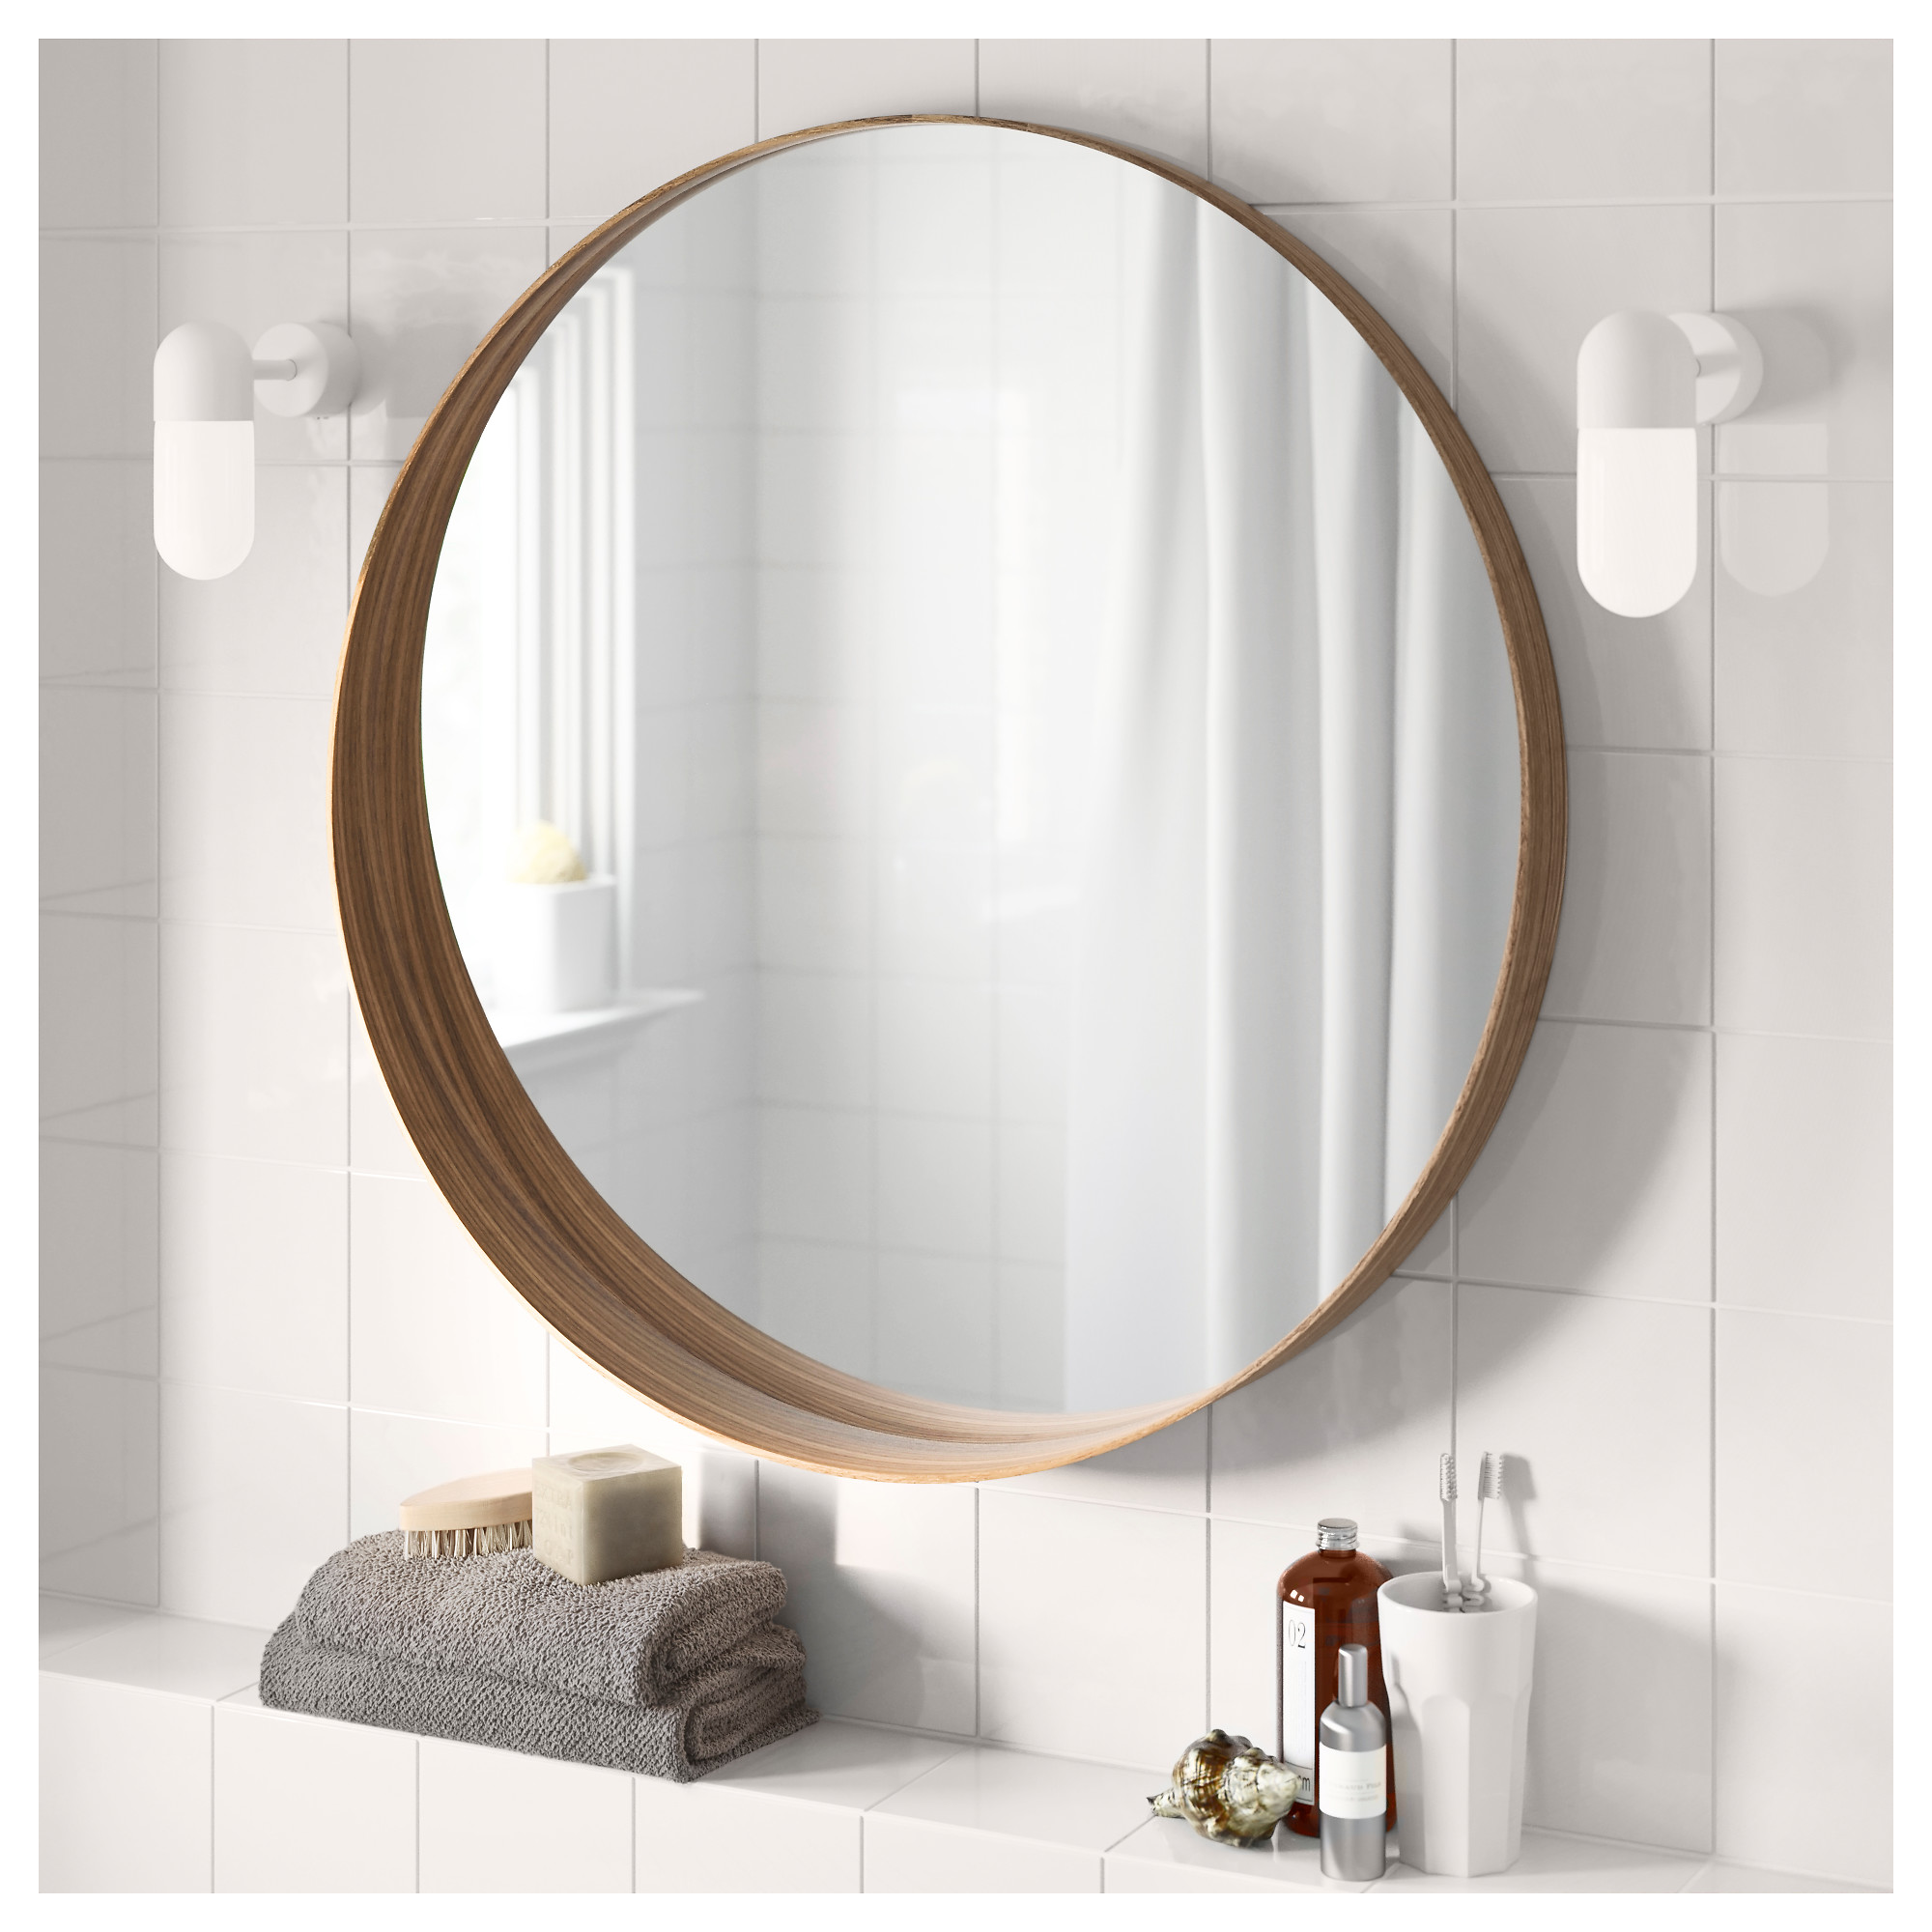Nonrec_Glass: (301, 120, 1598, 1454)
